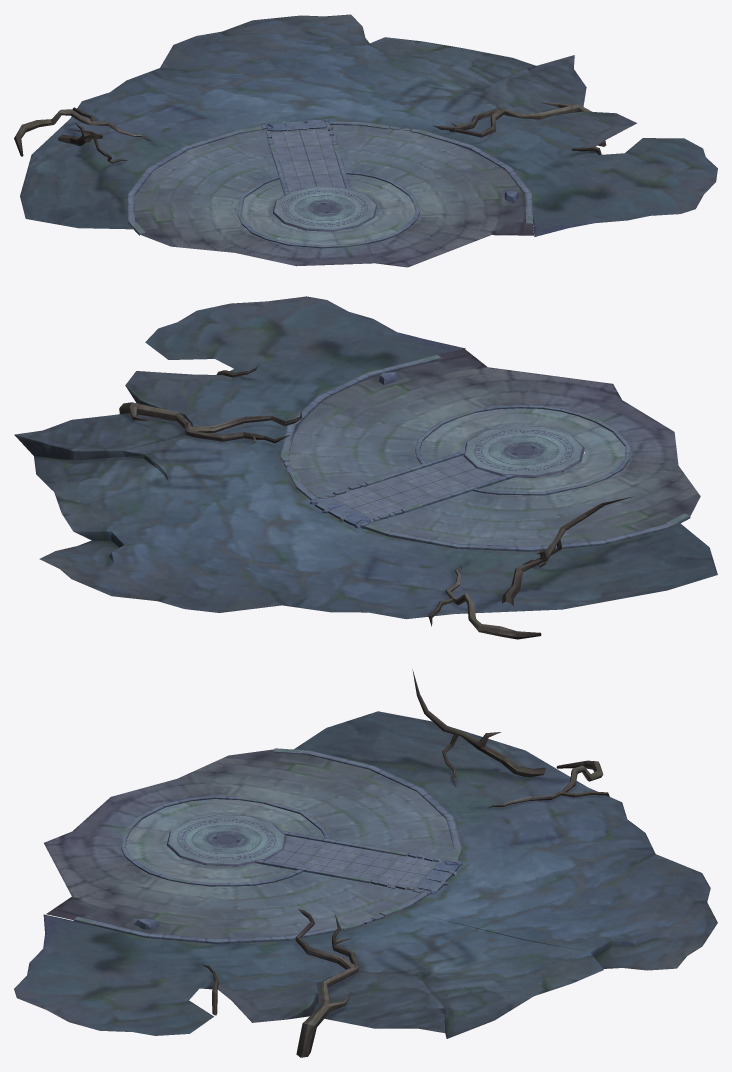
Rendered from Area02_2.fbx.
The picture shows the model from 3 angles, top to bottom: view 1: azimuth 30°, elevation 25°; view 2: azimuth 150°, elevation 25°; view 3: azimuth 270°, elevation 25°; orthographic projection. The views are drawn at different scales.
Parts seen in each view (by area): view 1: Area02_2; view 2: Area02_2; view 3: Area02_2.
Boxes of the visible parts, <box> form: Area02_2: <box>14,14,717,267</box>; Area02_2: <box>14,296,717,639</box>; Area02_2: <box>14,670,717,1057</box>.
Size of the model in its own units: 8283 by 1370 by 7590.
